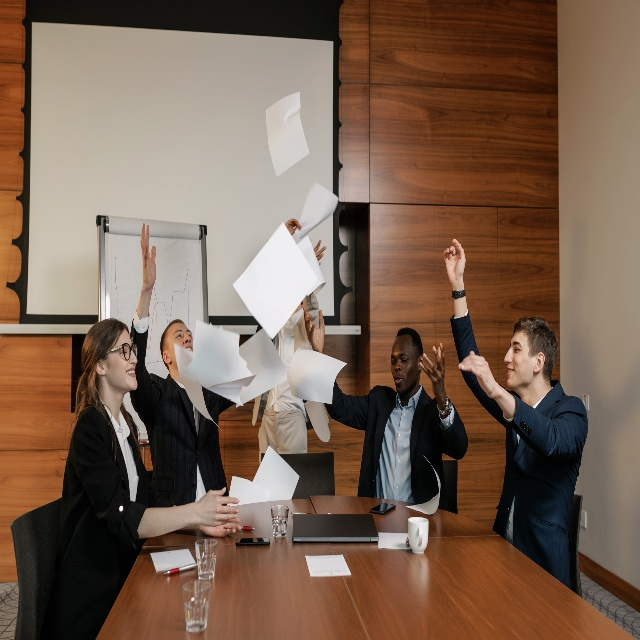Gafas: (105, 343, 138, 360)
Sin_guantes: (457, 350, 497, 398), (197, 486, 240, 526), (420, 341, 444, 395), (140, 221, 157, 289), (302, 302, 325, 352), (443, 238, 466, 279), (198, 517, 240, 536), (310, 237, 326, 266), (285, 217, 302, 235)
